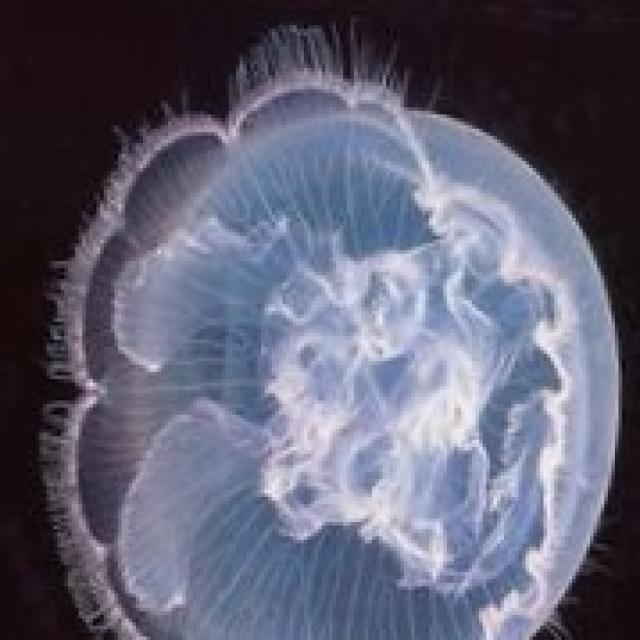Moon-jellyfish: (32, 18, 622, 637)
